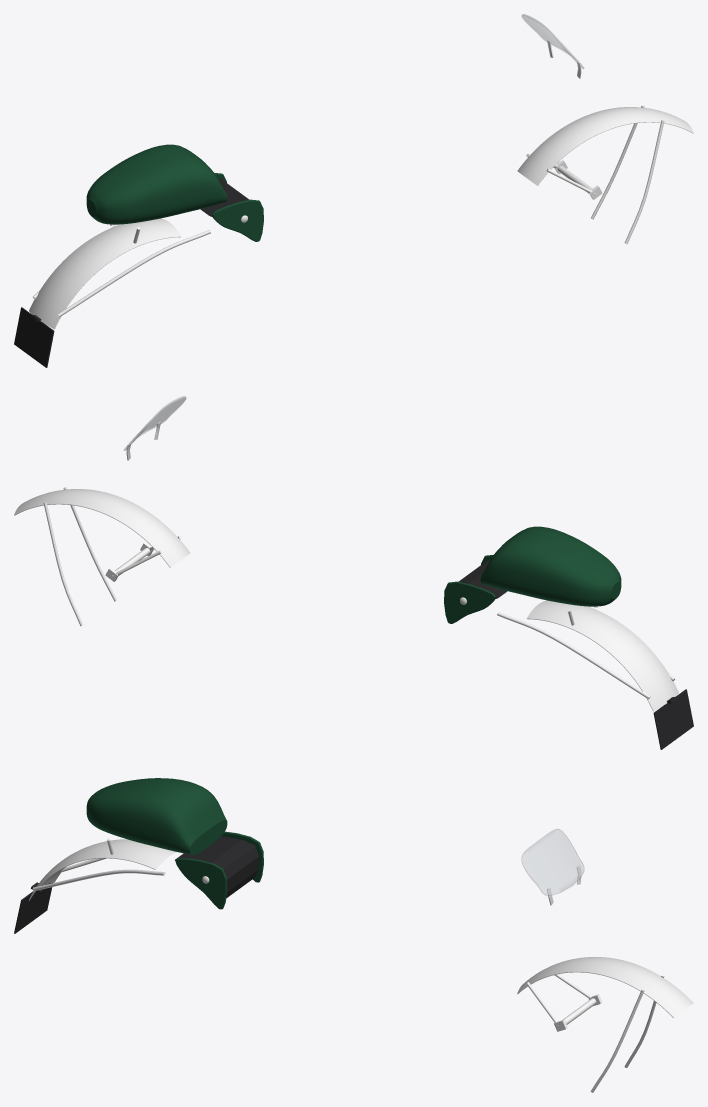
File: bike_cafe_racer__bodywork.glb
3 views of the same model, one above another, from view 1: azimuth 30°, elevation 25°; view 2: azimuth 150°, elevation 25°; view 3: azimuth 330°, elevation 25° (orthographic).
Visible parts, largest first — view 1: frame_body__tail_cowl, frame_body__rear_mudguard, frame_body__front_mudguard, frame_body__front_mudguard__stays, frame_body__side_panels, frame_body__number_plate_bracket, frame_body__rear_mudguard__stays, frame_body__flyscreen; view 2: frame_body__tail_cowl, frame_body__rear_mudguard, frame_body__front_mudguard, frame_body__front_mudguard__stays, frame_body__side_panels, frame_body__number_plate_bracket, frame_body__rear_mudguard__stays, frame_body__flyscreen; view 3: frame_body__tail_cowl, frame_body__front_mudguard, frame_body__flyscreen, frame_body__battery_box, frame_body__rear_mudguard, frame_body__side_panels, frame_body__front_mudguard__stays, frame_body__number_plate_bracket, frame_body__rear_mudguard__stays.
Boxes of the visible parts, x1,y1,x2,y2 form: frame_body__tail_cowl: (86,144,227,224); frame_body__rear_mudguard: (29,218,181,329); frame_body__front_mudguard: (517,107,693,185); frame_body__front_mudguard__stays: (526,105,664,244); frame_body__side_panels: (212,172,263,241); frame_body__number_plate_bracket: (14,307,54,367); frame_body__rear_mudguard__stays: (33,224,210,317); frame_body__flyscreen: (521,14,583,68); frame_body__tail_cowl: (480,526,621,606); frame_body__rear_mudguard: (526,600,678,711); frame_body__front_mudguard: (14,489,190,567); frame_body__front_mudguard__stays: (43,487,181,626); frame_body__side_panels: (444,554,495,623); frame_body__number_plate_bracket: (653,689,693,749); frame_body__rear_mudguard__stays: (497,606,674,699); frame_body__flyscreen: (124,396,186,450); frame_body__tail_cowl: (86,778,227,855); frame_body__front_mudguard: (517,957,693,1017); frame_body__flyscreen: (521,828,584,895); frame_body__battery_box: (175,836,258,898); frame_body__rear_mudguard: (29,839,177,900); frame_body__side_panels: (175,831,263,909); frame_body__front_mudguard__stays: (526,974,664,1092); frame_body__number_plate_bracket: (14,882,52,933); frame_body__rear_mudguard__stays: (32,838,165,890).
Size of the model in its own units: 199 by 65.34 by 24.95.
